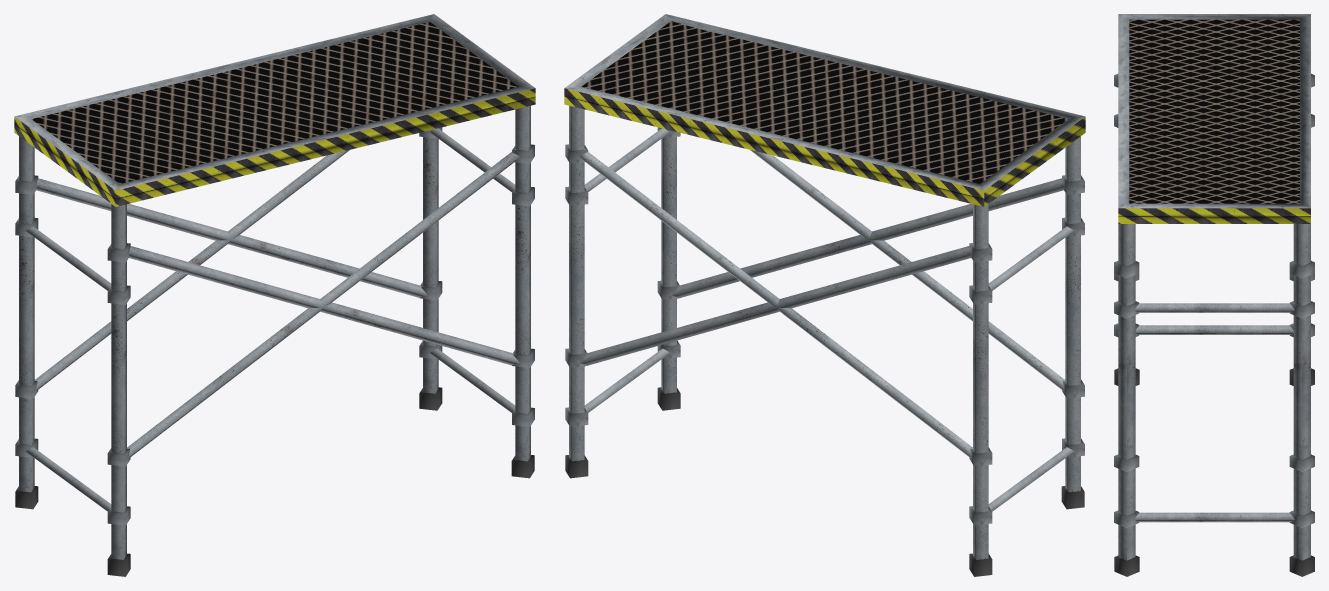
The model's file is Ob_ScaffoldingSmall_RC.fbx.
3 renders of one model, left to right at view 1: azimuth 30°, elevation 25°; view 2: azimuth 150°, elevation 25°; view 3: azimuth 270°, elevation 25°, orthographic. The views are drawn at different scales.
Parts seen in each view (by area): view 1: Ob_ScaffoldingSmallConnector_RC; view 2: Ob_ScaffoldingSmallConnector_RC; view 3: Ob_ScaffoldingSmallConnector_RC.
Boxes of the visible parts, x1,y1,x2,y2 form: Ob_ScaffoldingSmallConnector_RC: (14,14,535,576); Ob_ScaffoldingSmallConnector_RC: (564,14,1085,576); Ob_ScaffoldingSmallConnector_RC: (1114,14,1314,576).
Bounding box in the file's own units: 1838 × 1590 × 788.
